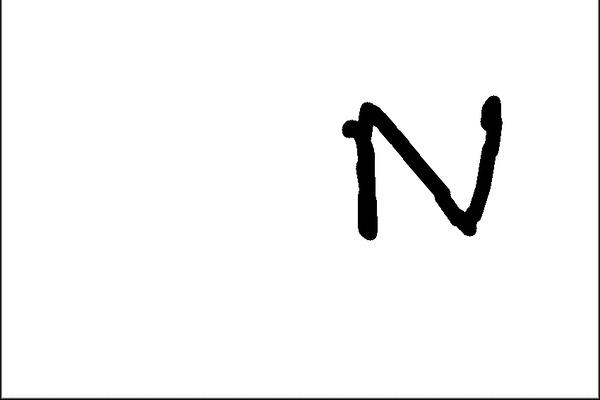N: (336, 88, 513, 248)
